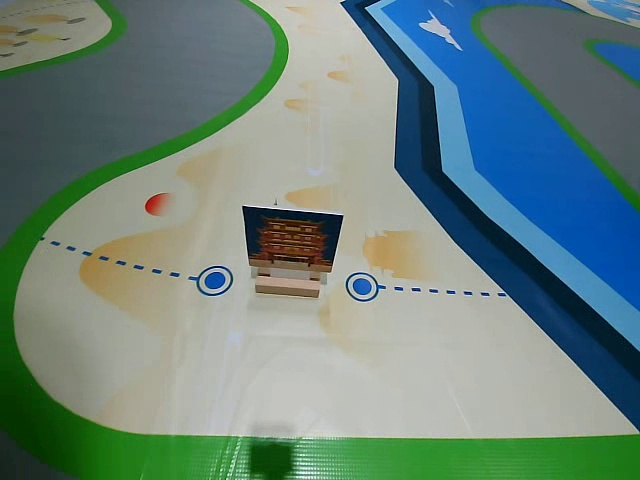tengWangGe: (243, 208, 344, 283)
